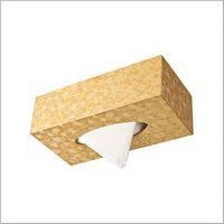book: (24, 50, 199, 171)
tissue: (71, 117, 144, 174)
